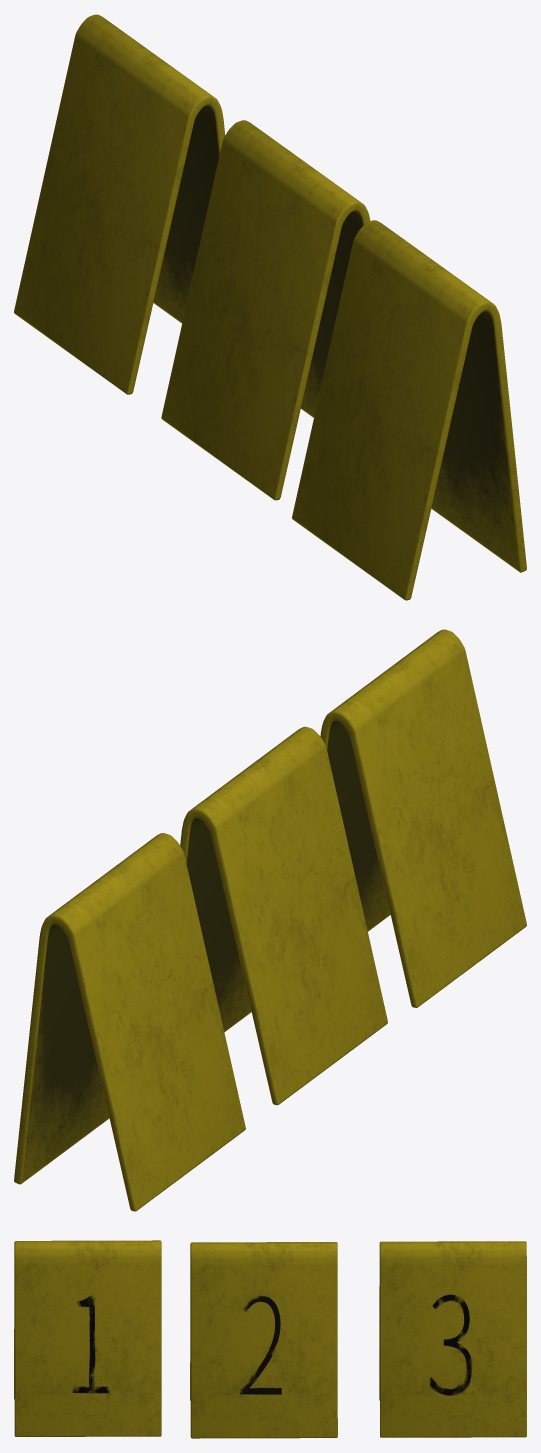
The model's file is evidence-markers.glb.
3 renders of one model, top to bottom at view 1: azimuth 30°, elevation 25°; view 2: azimuth 150°, elevation 25°; view 3: azimuth 270°, elevation 25°, orthographic. The views are drawn at different scales.
Visible parts, largest first — view 1: Plane.001, Plane, Plane.002; view 2: Plane, Plane.002, Plane.001; view 3: Plane, Plane.001, Plane.002.
Part boxes in pixels (<box>): Plane.001: <box>292,220,526,600</box>; Plane: <box>14,14,225,394</box>; Plane.002: <box>161,120,370,500</box>; Plane: <box>14,833,245,1211</box>; Plane.002: <box>180,726,387,1105</box>; Plane.001: <box>320,629,526,1007</box>; Plane: <box>379,1241,526,1437</box>; Plane.001: <box>14,1240,161,1436</box>; Plane.002: <box>190,1242,337,1438</box>.
Size of the model in its own units: 1.15 by 2.38 by 6.07.
Materials: 3 (3 with a texture image).
